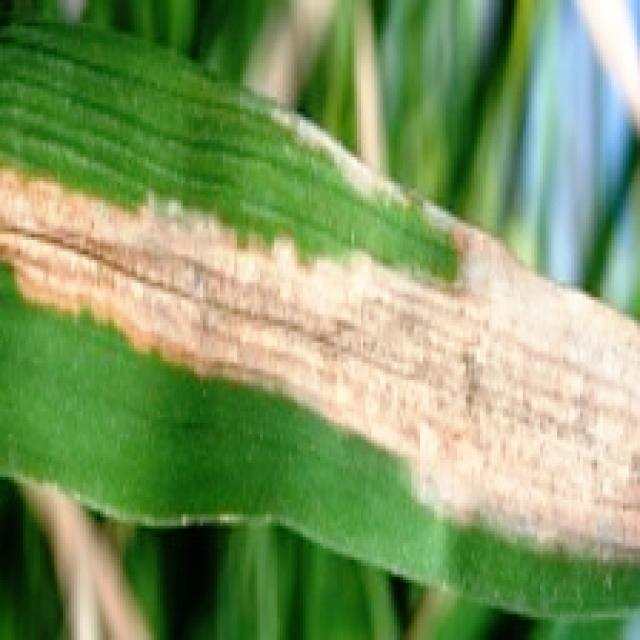unhealth: (0, 20, 640, 616)
